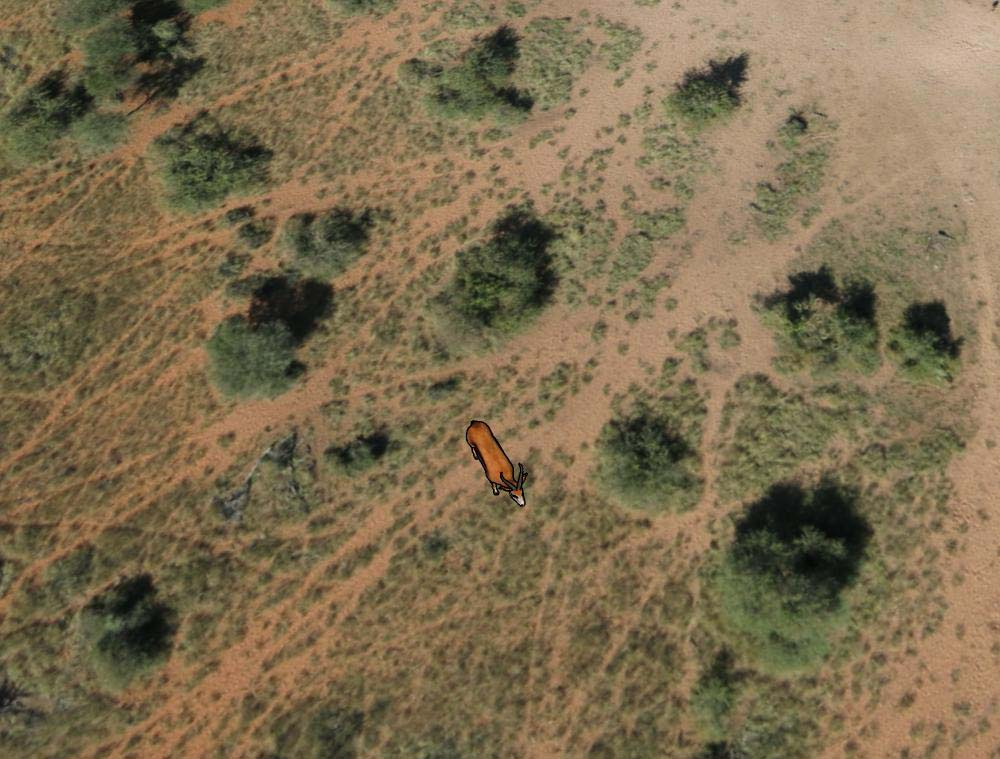springbok: (459, 416, 531, 513)
